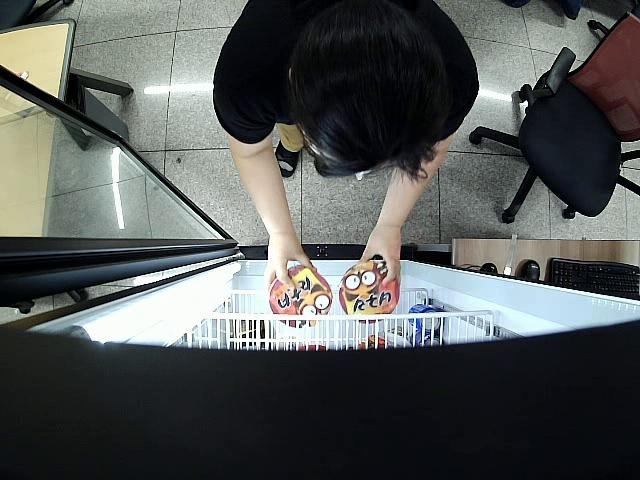00_hand: (263, 237, 317, 289), (361, 227, 402, 289)
05_nuguri_L: (338, 257, 402, 323), (268, 265, 333, 329)
